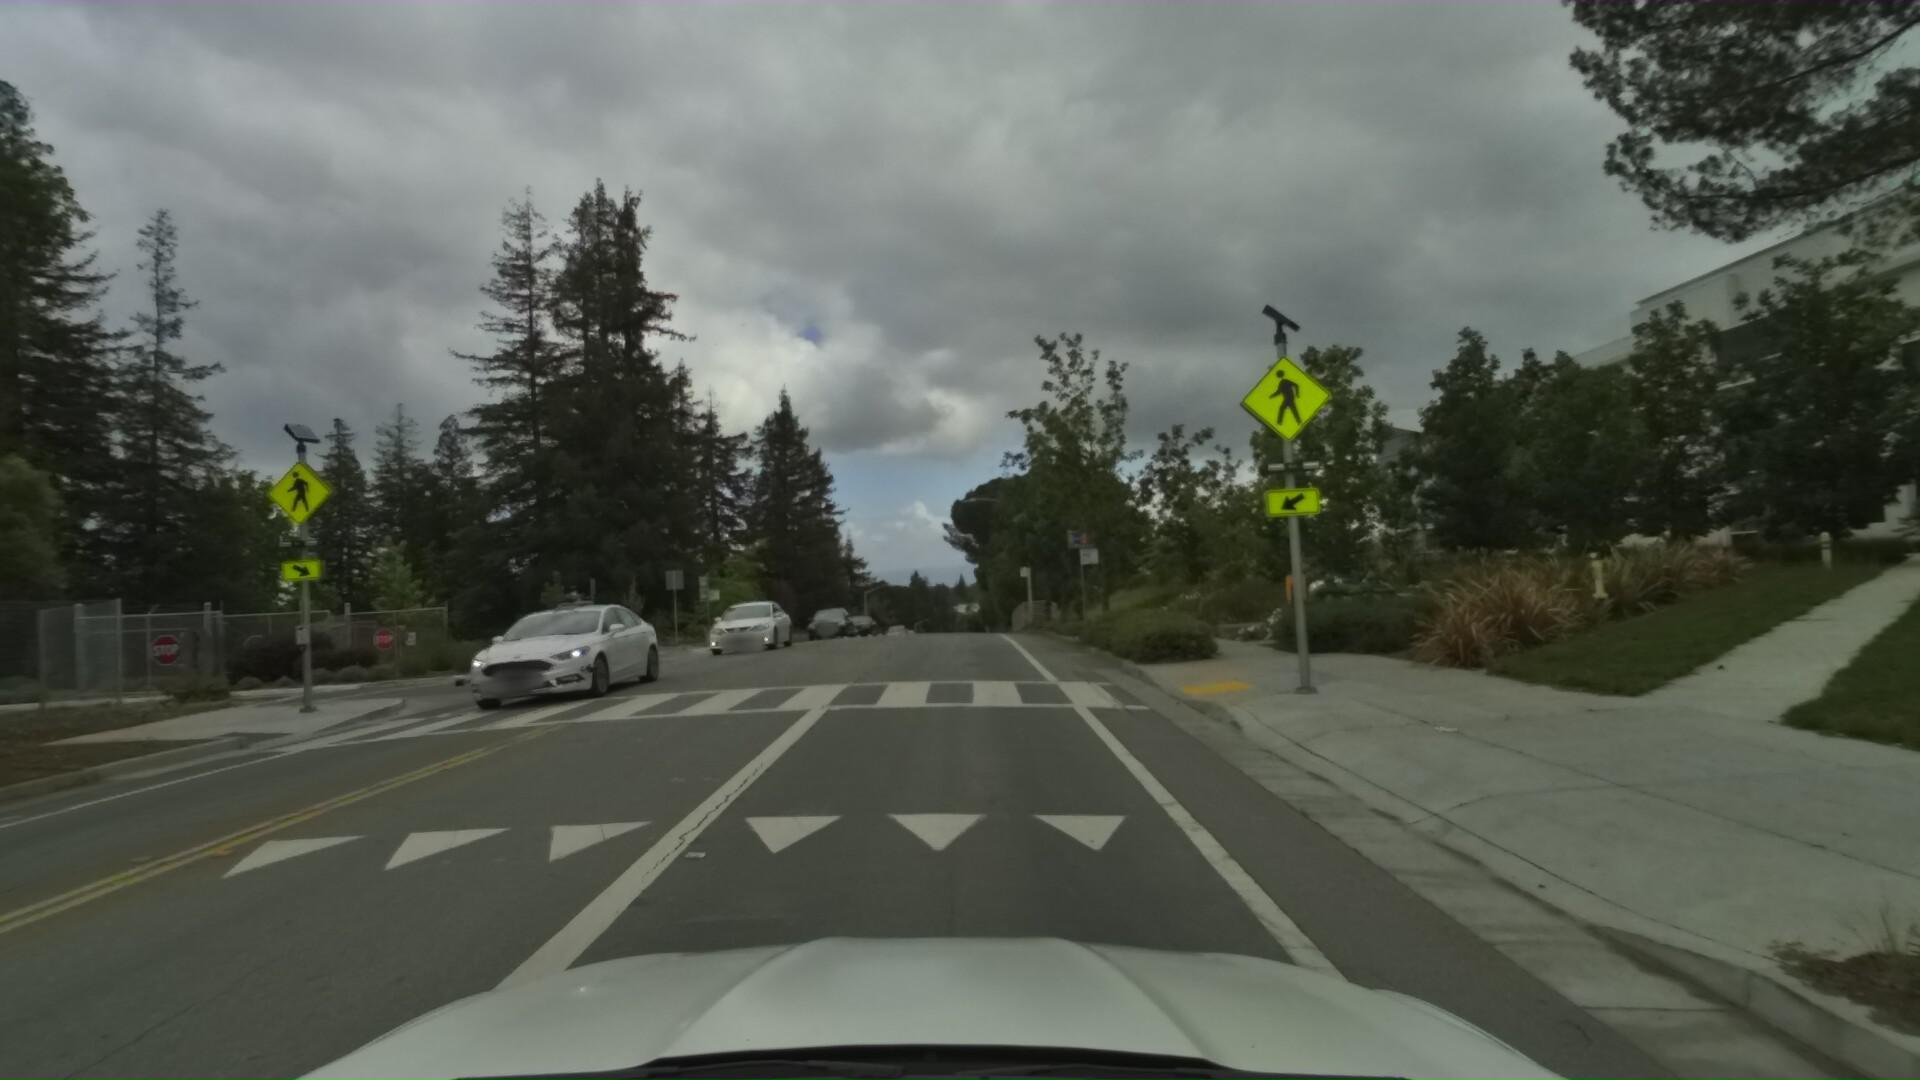car: (429, 574, 659, 713), (699, 587, 791, 647), (800, 597, 855, 636), (837, 603, 878, 632)
